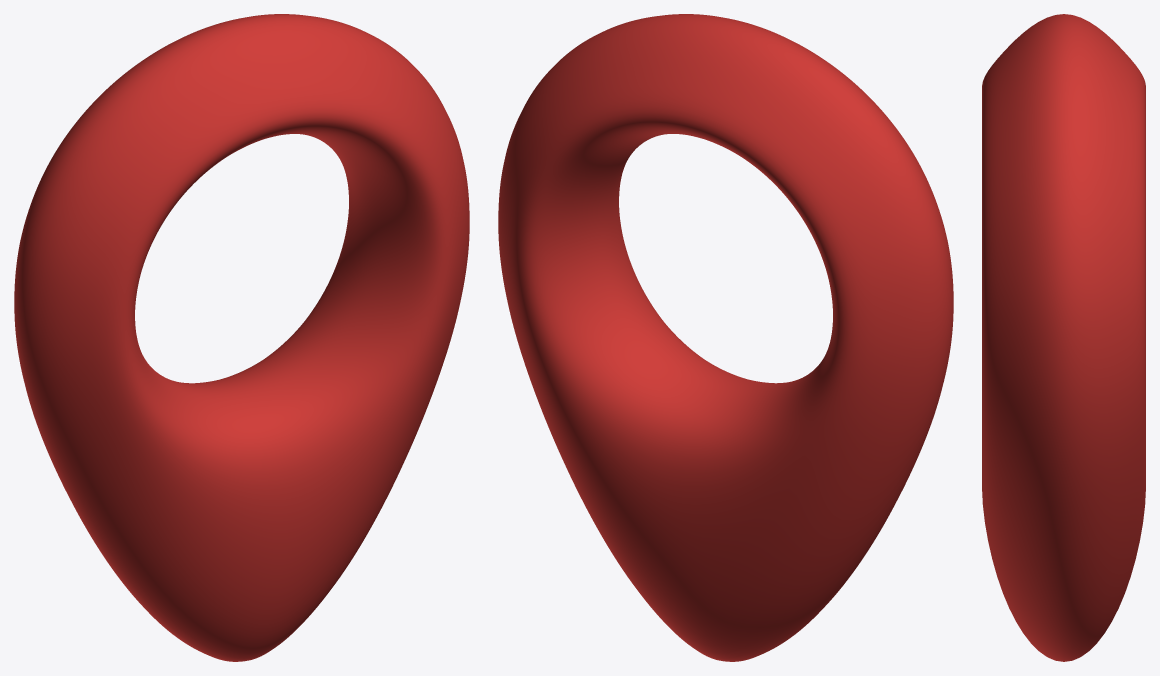
The model's file is Map_pin.glb.
3 views of the same model, side by side, from view 1: azimuth 30°, elevation 25°; view 2: azimuth 150°, elevation 25°; view 3: azimuth 270°, elevation 25° (orthographic). The views are drawn at different scales.
Parts seen in each view (by area): view 1: Circle.001; view 2: Circle.001; view 3: Circle.001.
Boxes of the visible parts, bbox=[...] form: Circle.001: bbox=[14, 14, 469, 661]; Circle.001: bbox=[498, 14, 953, 661]; Circle.001: bbox=[982, 14, 1145, 661].
Bounding box in the file's own units: 3.56 × 4.9 × 1.17.
